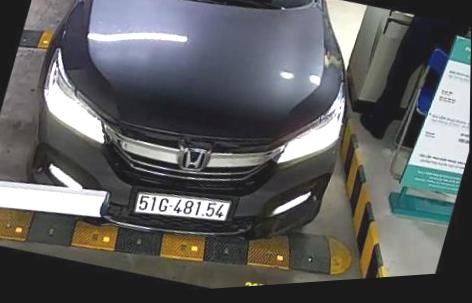License_Plate: (127, 180, 236, 233)
